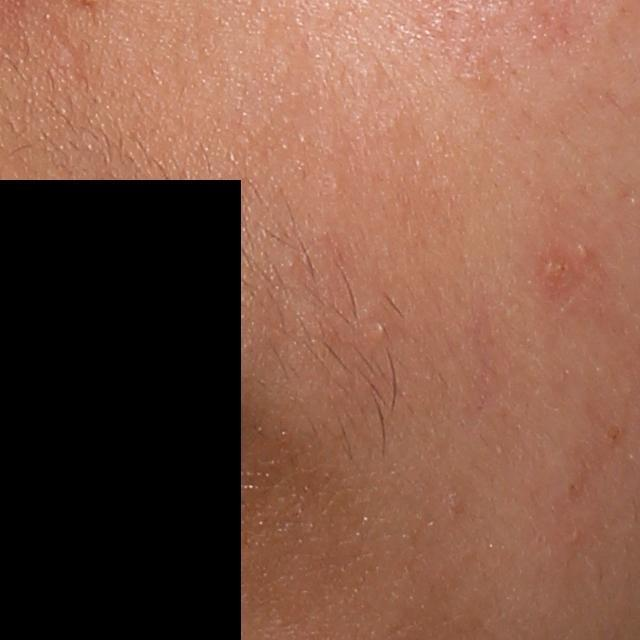comedo: (373, 319, 392, 338)
papule: (544, 256, 569, 282)
